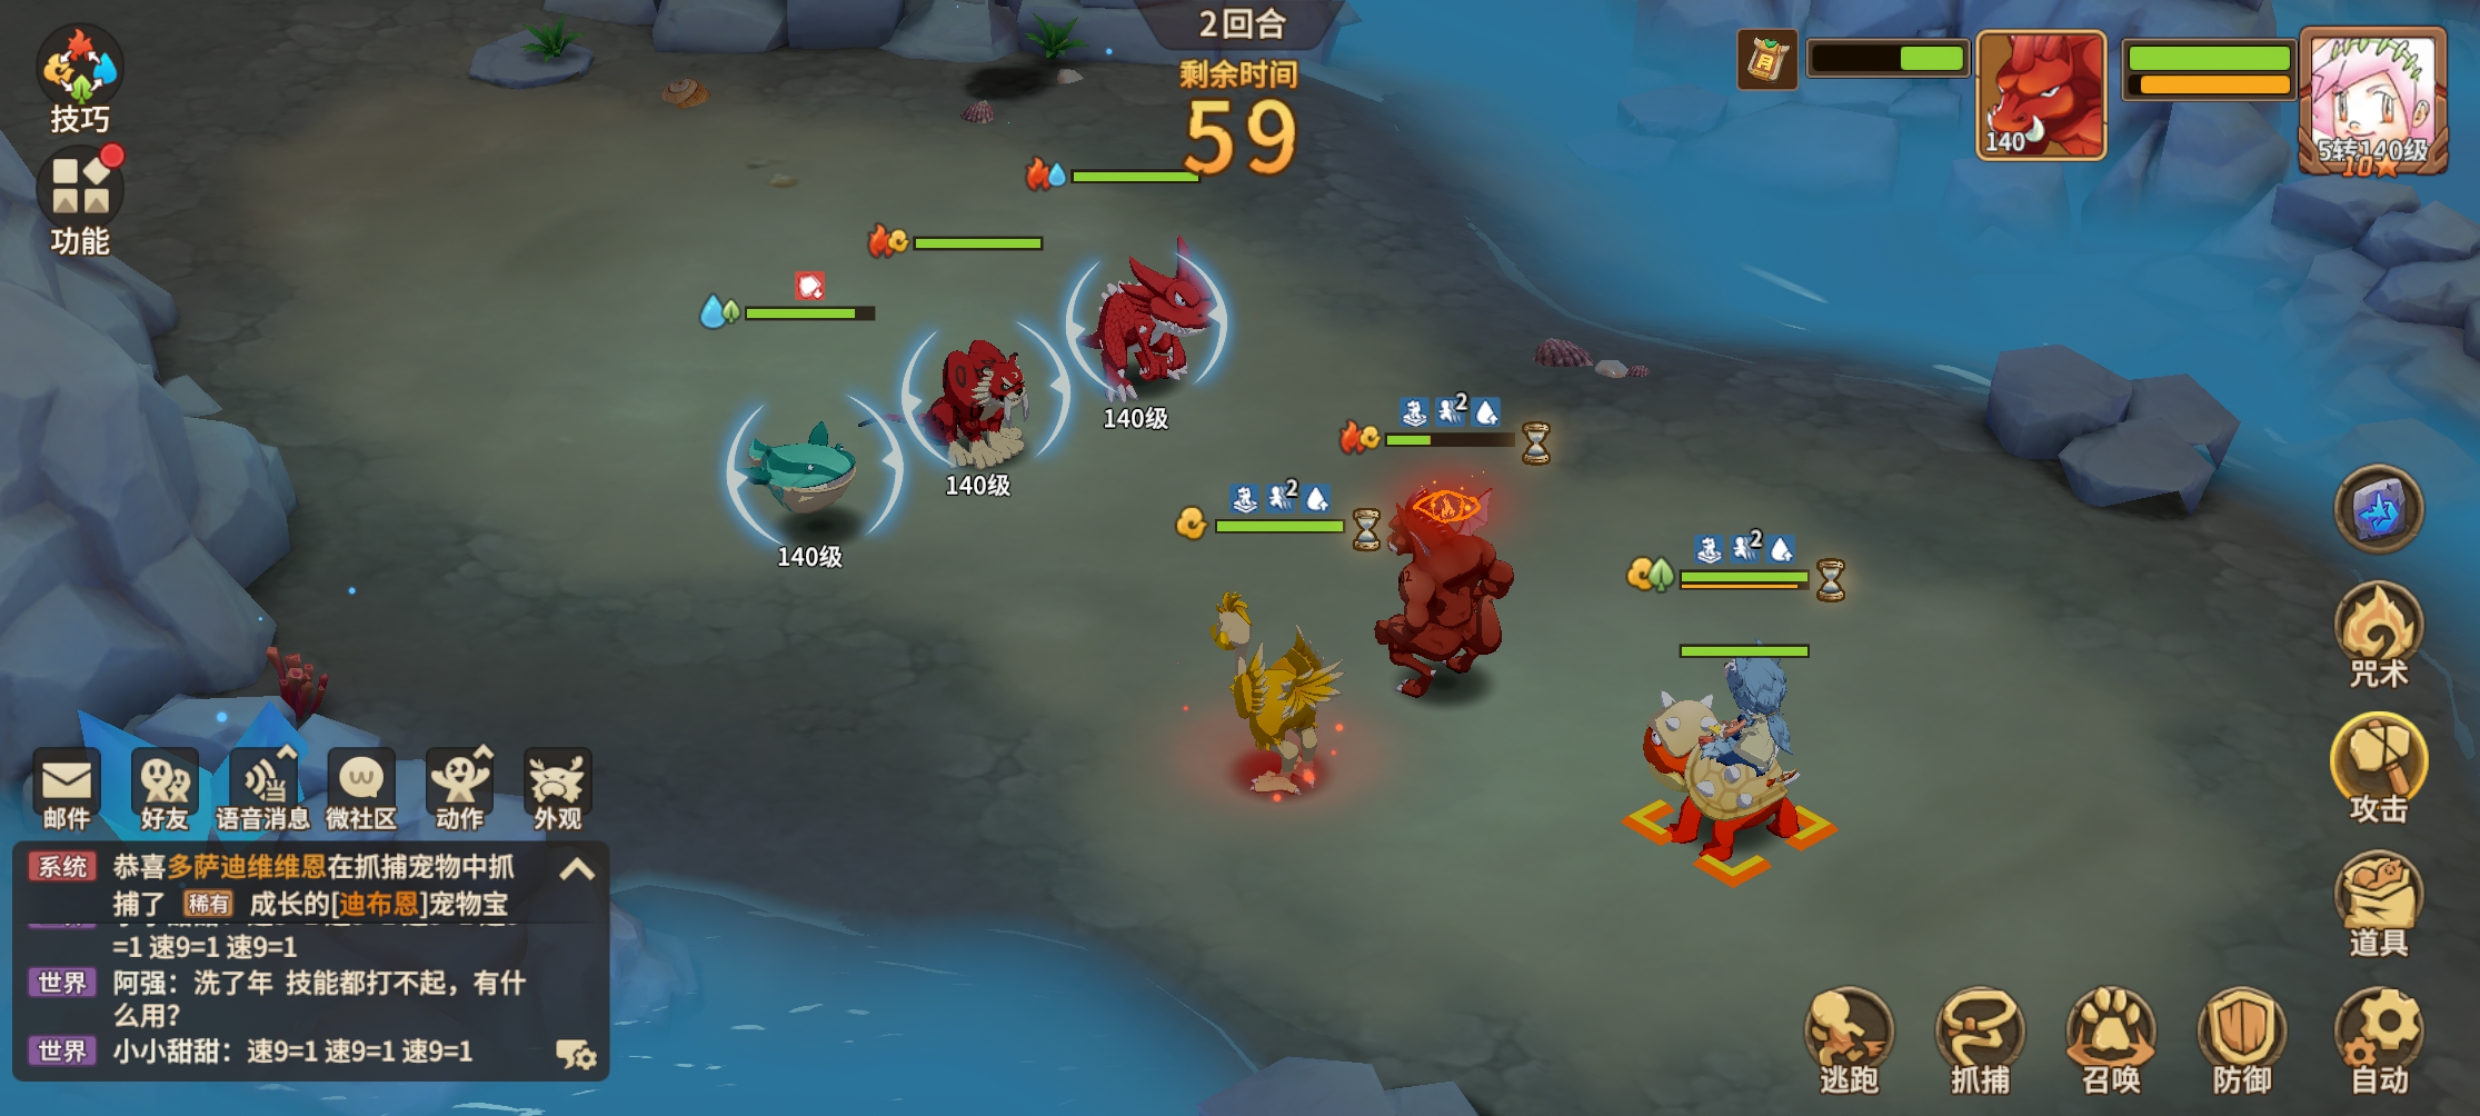葛雷吉鲁: (1368, 477, 1525, 721)
